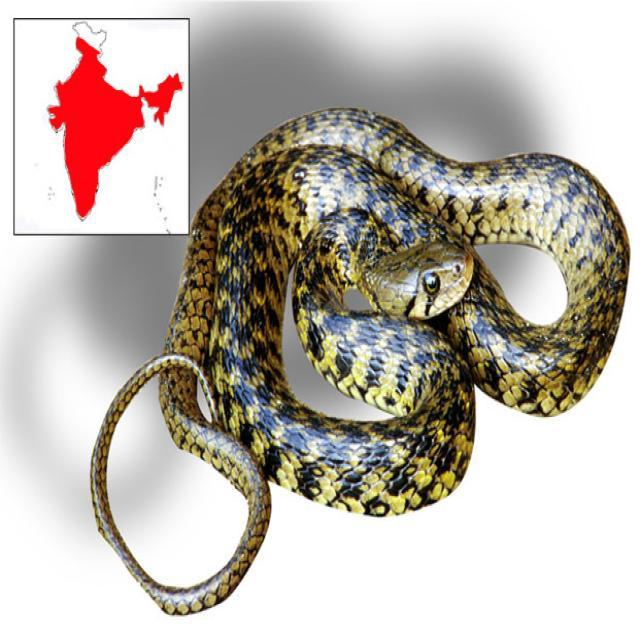Snake: (88, 104, 630, 616)
